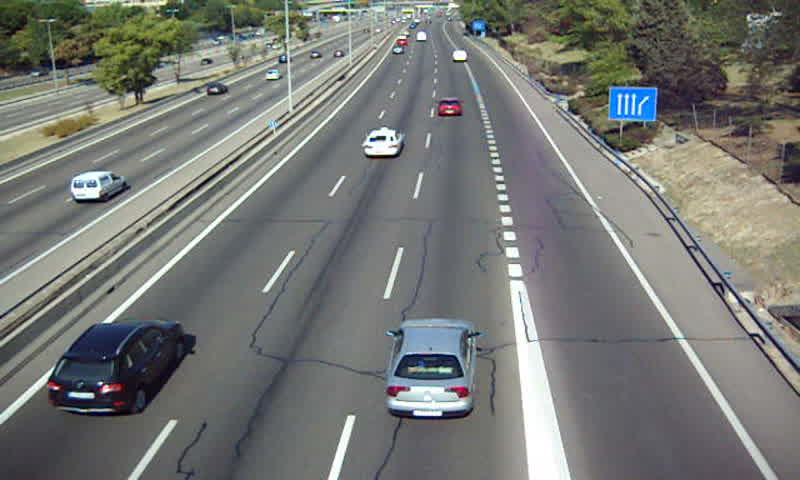car: (49, 316, 183, 415), (385, 320, 476, 418), (363, 128, 404, 156), (436, 98, 461, 117)
